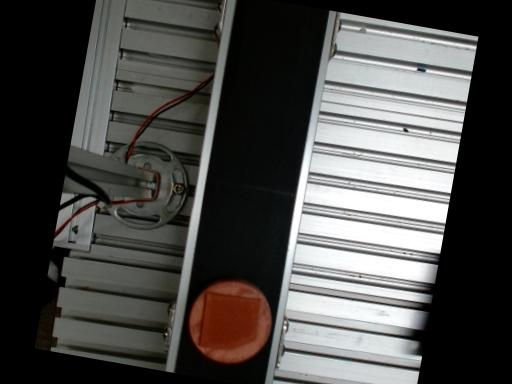Brown_Waper: (187, 278, 271, 363)
Not_Square: (198, 292, 261, 350)
